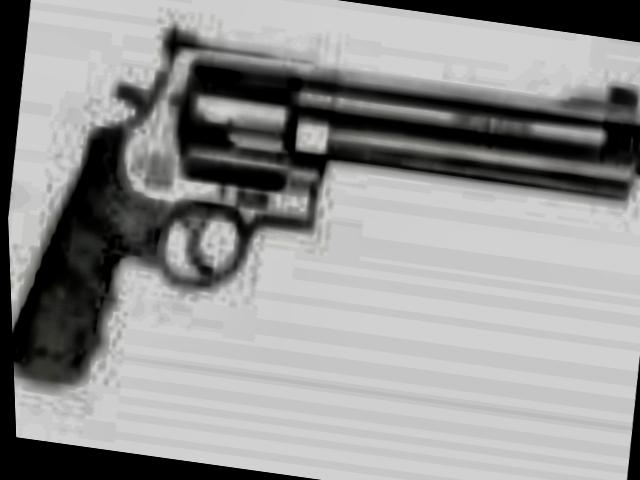pistol: (0, 1, 640, 464)
